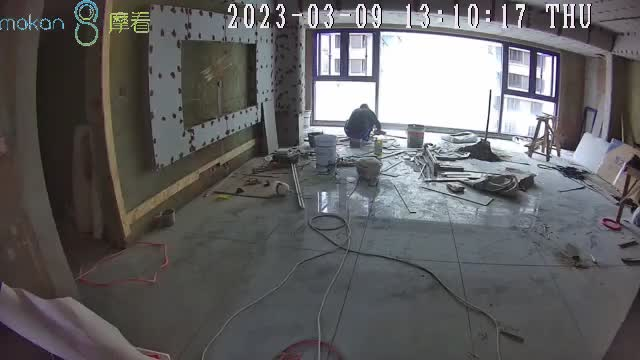people: (344, 103, 382, 143)
window: (313, 29, 559, 139)
